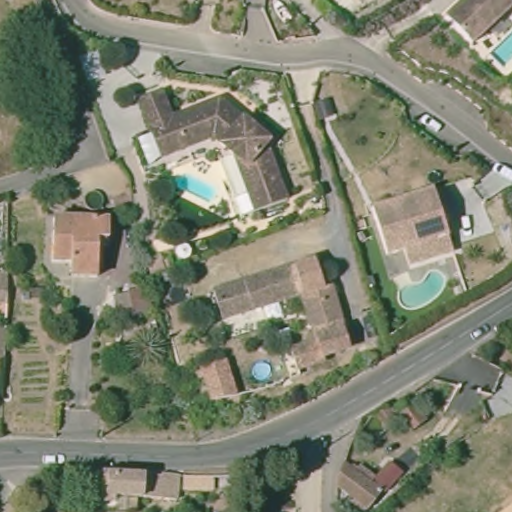pool: (165, 167, 225, 210), (391, 271, 450, 312), (489, 23, 512, 79), (245, 357, 277, 387)
